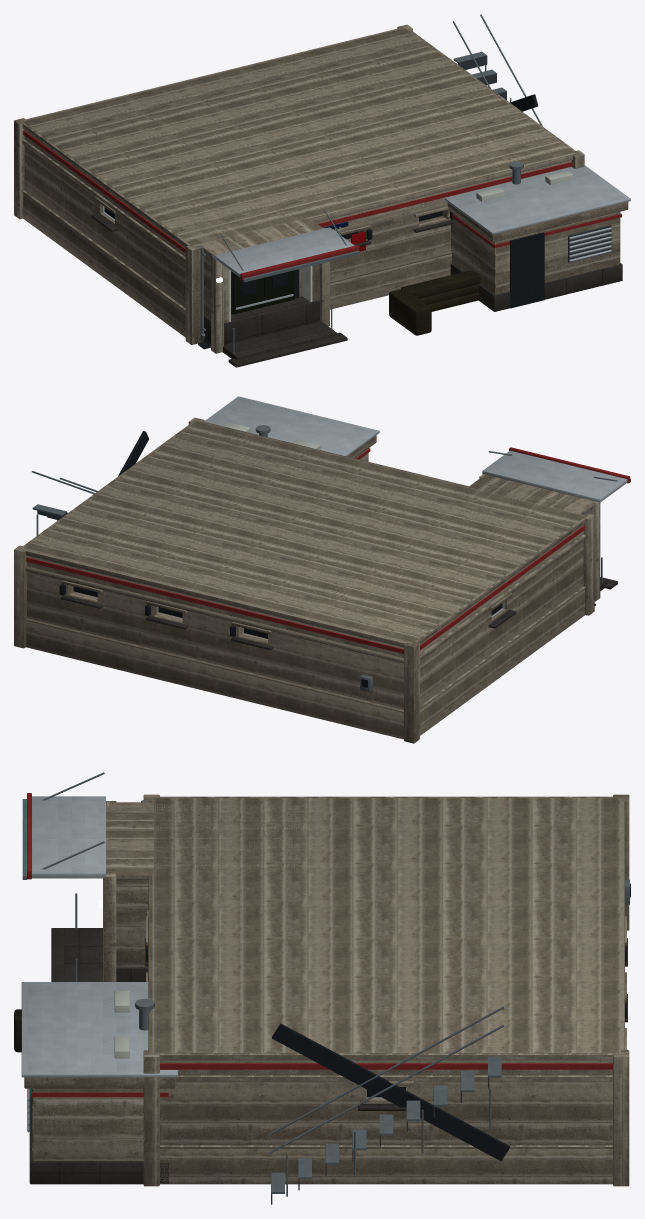
The model's file is fac_security_main.glb.
The picture shows the model from 3 angles, top to bottom: view 1: azimuth 30°, elevation 25°; view 2: azimuth 150°, elevation 25°; view 3: azimuth 270°, elevation 25°; orthographic projection. The views are drawn at different scales.
Visible parts, largest first — view 1: FAC_SECURITY_MAIN; view 2: FAC_SECURITY_MAIN; view 3: FAC_SECURITY_MAIN.
Boxes of the visible parts, x1,y1,x2,y2 form: FAC_SECURITY_MAIN: [14, 14, 630, 367]; FAC_SECURITY_MAIN: [14, 396, 630, 743]; FAC_SECURITY_MAIN: [14, 772, 630, 1204].
Size of the model in its own units: 14.8 by 4.44 by 13.66.
Materials: 15 (13 with a texture image).
